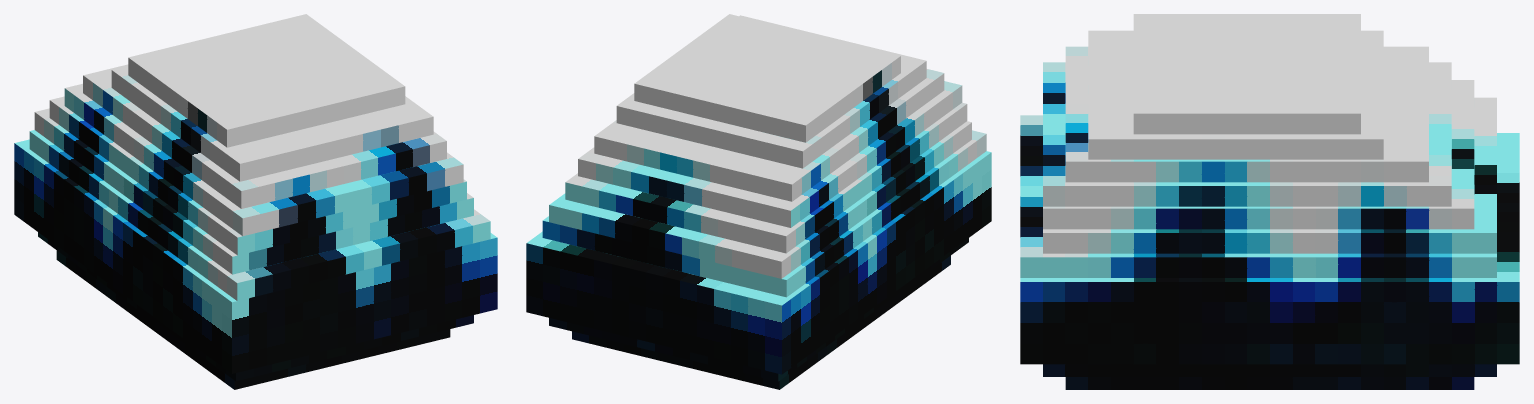
File: Slime_Frost.gltf
3 renders of one model, left to right at view 1: azimuth 30°, elevation 25°; view 2: azimuth 150°, elevation 25°; view 3: azimuth 270°, elevation 25°, orthographic. The views are drawn at different scales.
Visible parts, largest first — view 1: cube (×10); view 2: cube (×10); view 3: cube (×10).
Part boxes in pixels (x1,y1,x2,y2): cube (×10): [14, 14, 497, 389]; cube (×10): [526, 14, 991, 389]; cube (×10): [1020, 14, 1519, 389].
Size of the model in its own units: 0.9688 by 0.8125 by 1.38.
Materials: 1 (1 with a texture image).
